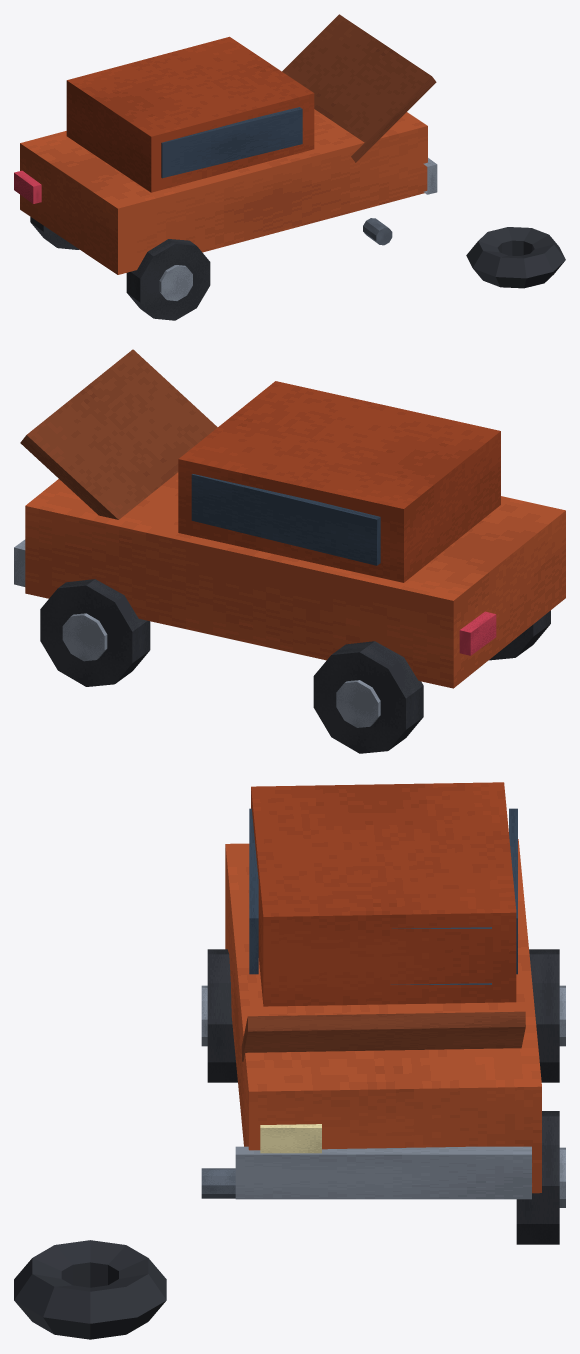
Rendered from prop_wreck_car.glb.
The picture shows the model from 3 angles, top to bottom: view 1: azimuth 30°, elevation 25°; view 2: azimuth 150°, elevation 25°; view 3: azimuth 270°, elevation 25°; orthographic projection. The views are drawn at different scales.
Visible parts, largest first — view 1: prop_wreck_car; view 2: prop_wreck_car; view 3: prop_wreck_car.
Part boxes in pixels (x1,y1,x2,y2): prop_wreck_car: (14,14,565,320); prop_wreck_car: (14,349,565,753); prop_wreck_car: (14,782,565,1339).
Size of the model in its own units: 2.49 by 1.01 by 1.79.
1 material, 1 textured.
